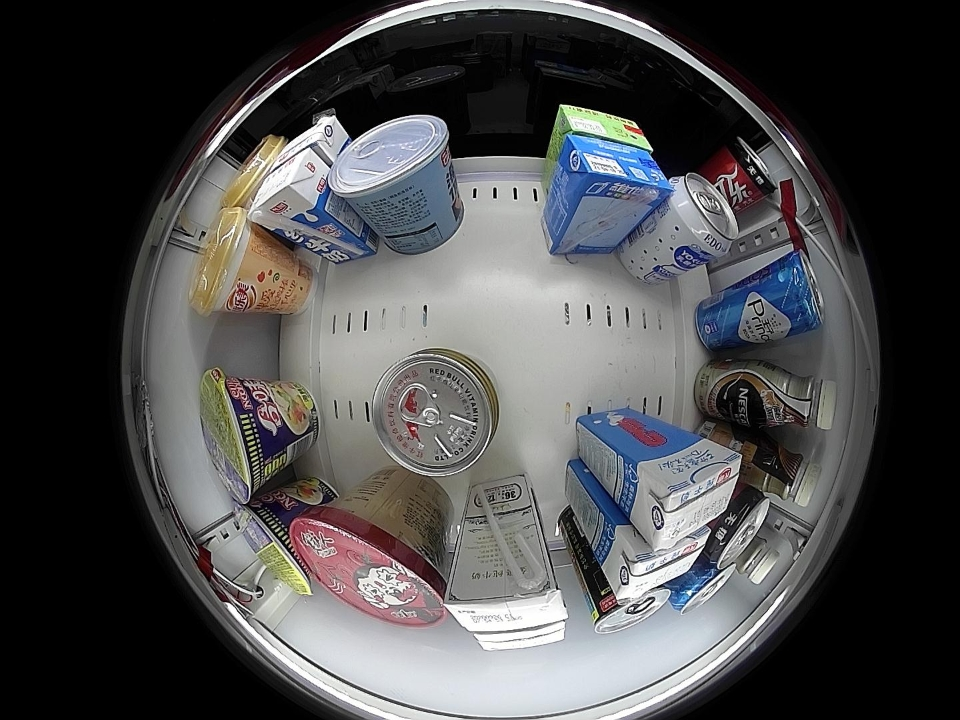haitai: (329, 114, 452, 212)
heweidao: (199, 367, 271, 505), (232, 496, 315, 595)
hongniu2: (372, 348, 500, 477)
jindian: (445, 568, 568, 632), (473, 621, 567, 651)
kafei: (748, 366, 838, 431), (743, 437, 821, 507), (735, 534, 781, 585)
lingdukele: (706, 489, 771, 567), (719, 136, 776, 203)
niunai: (632, 437, 744, 552), (609, 524, 711, 600), (250, 146, 330, 229), (273, 113, 347, 172)
qingdaowangzi-2: (768, 251, 825, 338), (669, 558, 735, 615)
rusuanjunqishui: (663, 171, 740, 258)
suanlafen: (293, 501, 448, 629)
wanglaoji: (553, 104, 654, 152)
weitanai: (556, 134, 671, 214)
yezhi: (590, 583, 671, 635)
youlemei: (188, 205, 264, 316), (224, 134, 283, 209)
